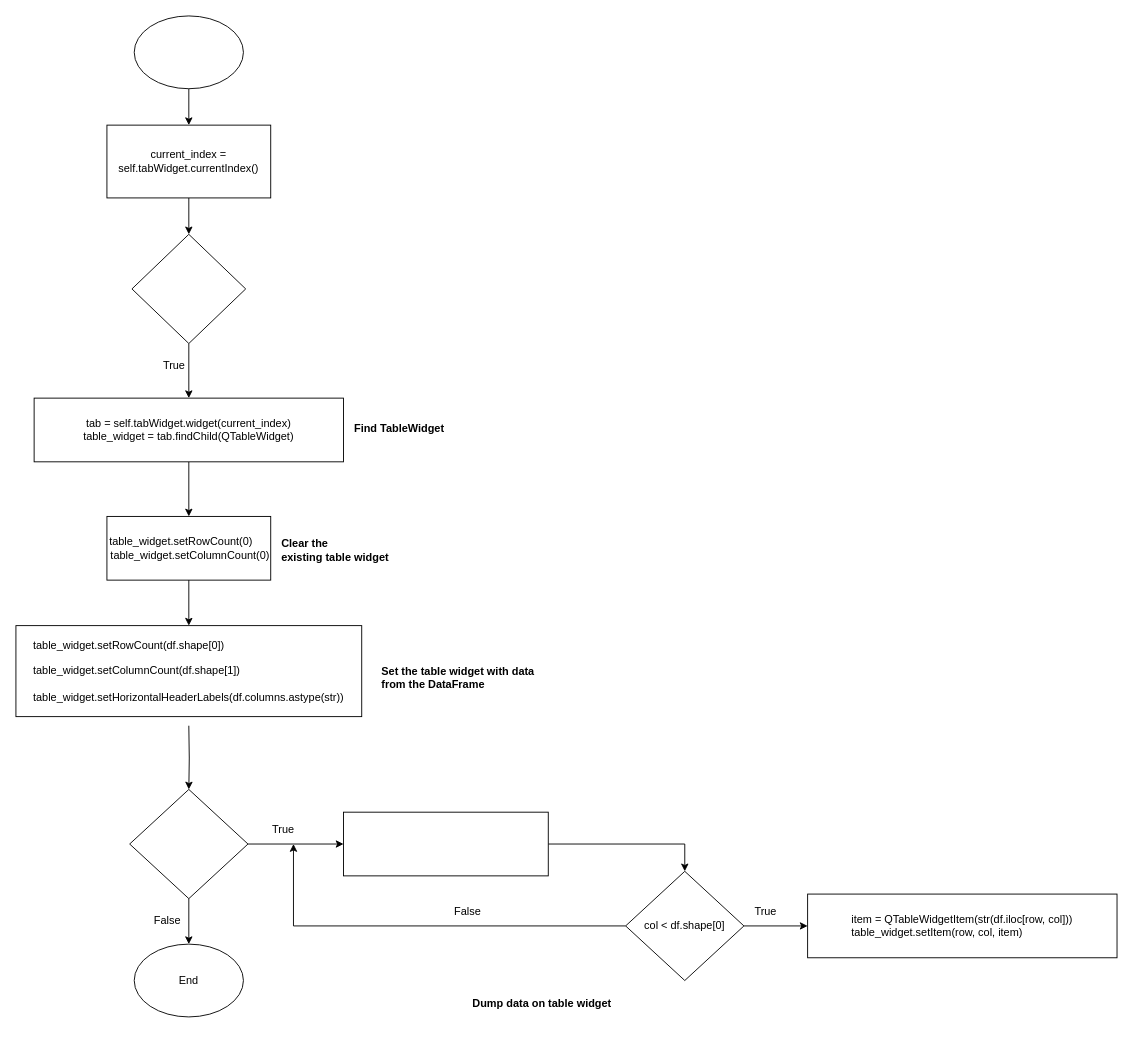
The diagram is 1133 pixels wide and 1042 high, and some of its shapes have lost their labels. Here are the shapes that lost their labels. From the top down, the centre of each, then its label:
pixel 188 52: Start
pixel 188 288: currentTab_index >0
pixel 188 844: row < df.shape[0]
pixel 445 843: Determine the order of rowsthe
